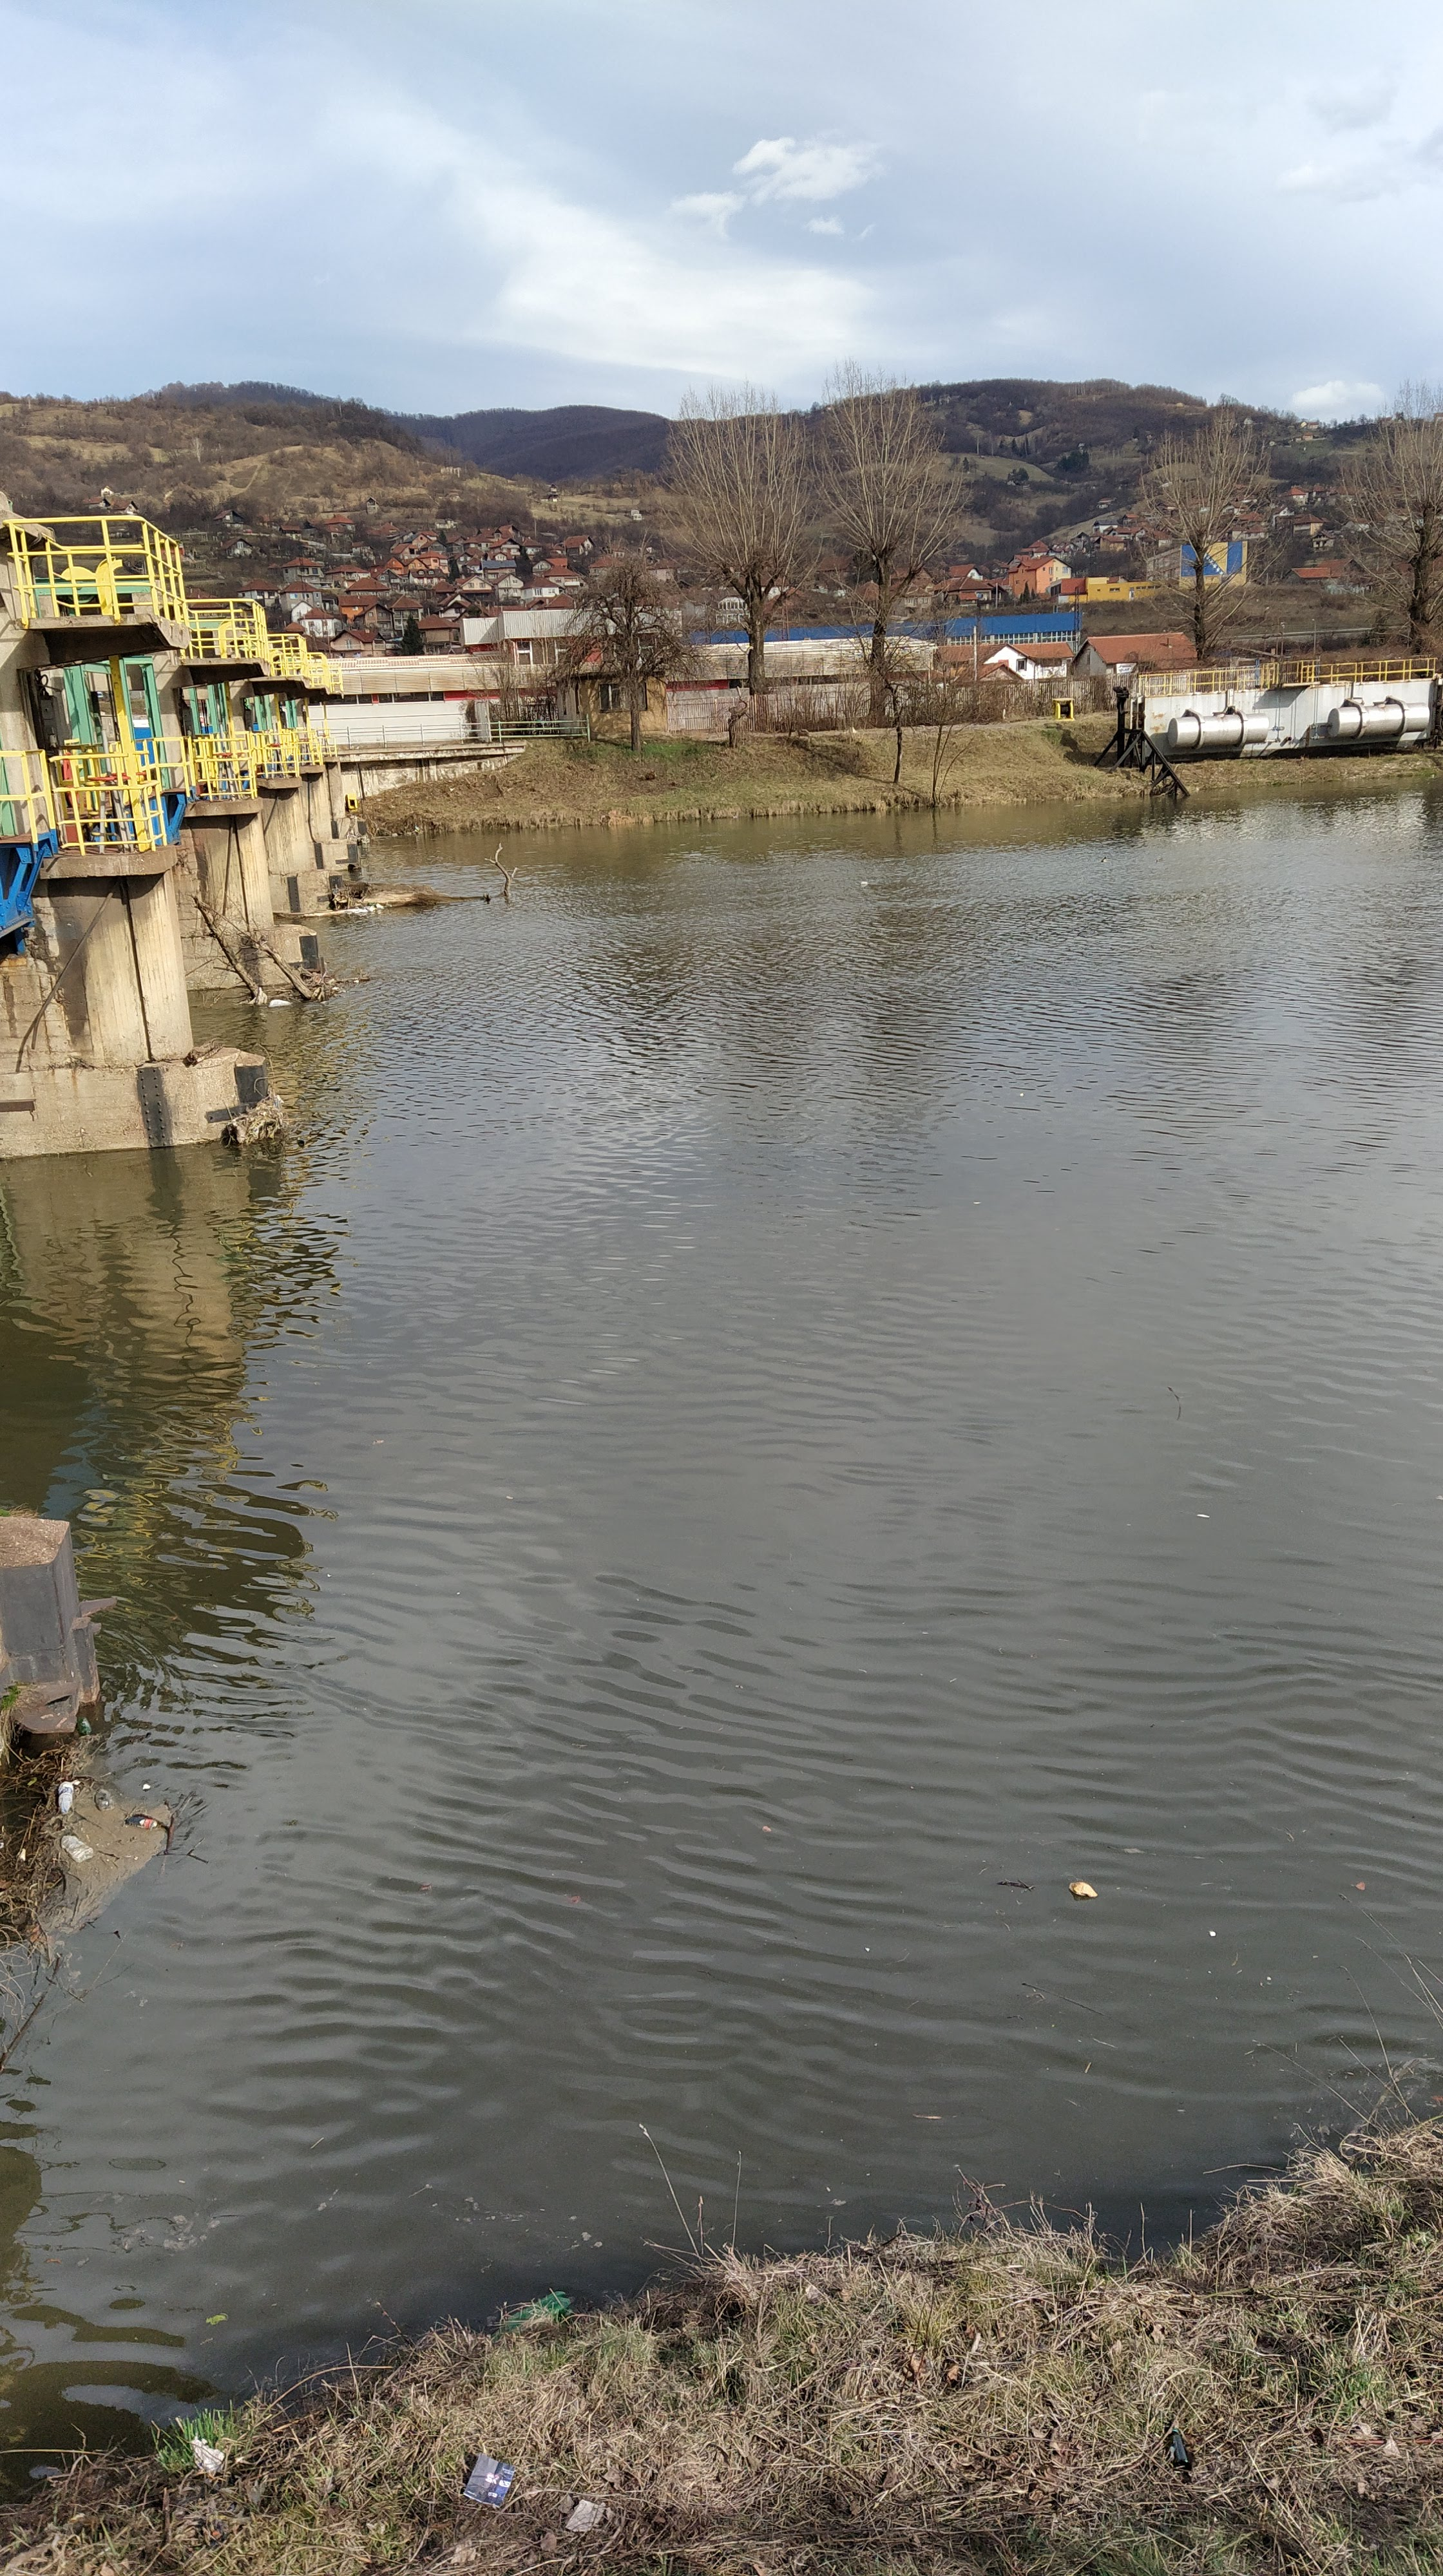Plastic Bottle: (494, 2289, 572, 2339), (60, 1835, 92, 1861), (94, 1787, 113, 1810), (58, 1782, 71, 1815), (126, 1817, 156, 1829), (78, 1718, 90, 1736), (297, 1138, 305, 1145), (862, 883, 868, 885)
